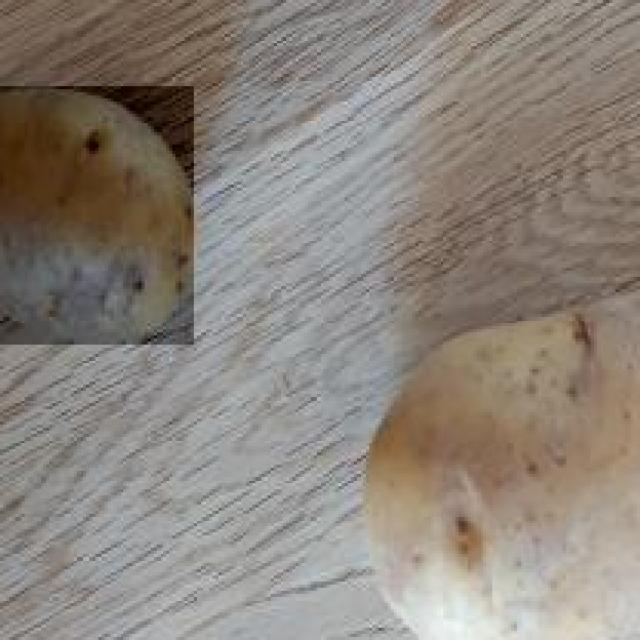potato: (360, 286, 640, 640), (0, 83, 197, 345)
